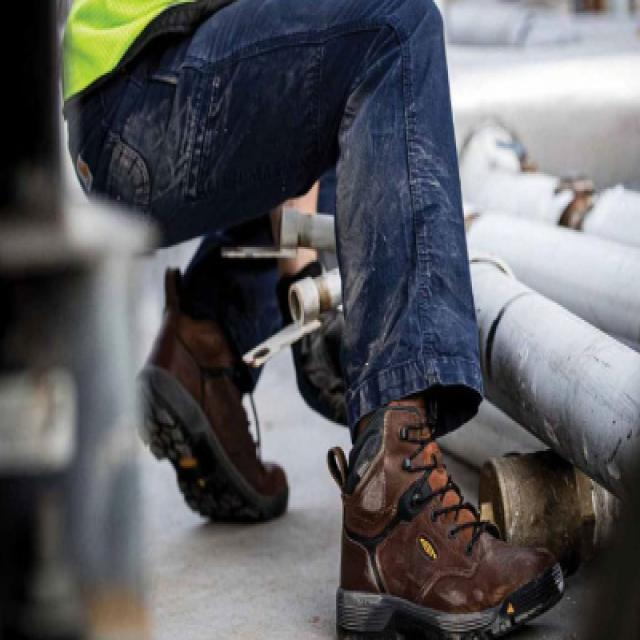boots: (126, 255, 571, 640)
